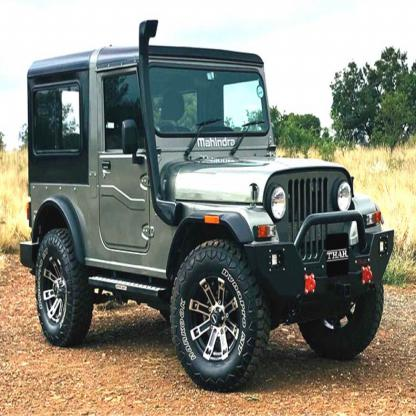car: (19, 18, 395, 390)
